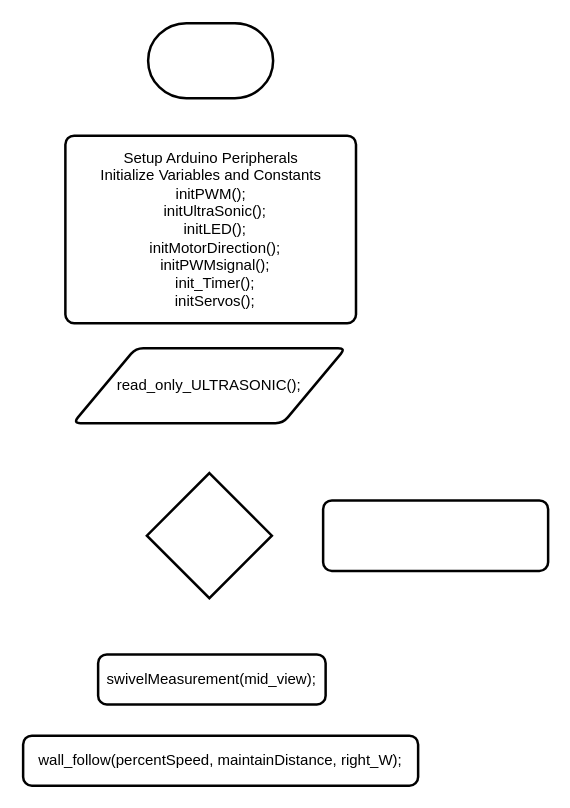
The diagram is 570 pixels wide and 808 high, and some of its shapes have lost their labels. Here are the shapes that lost their labels. From the top down, the box of each, then its label:
(146, 21, 274, 99): Start
(321, 498, 549, 572): pause(); moveForward(); swivelMeasurement(right_View);
